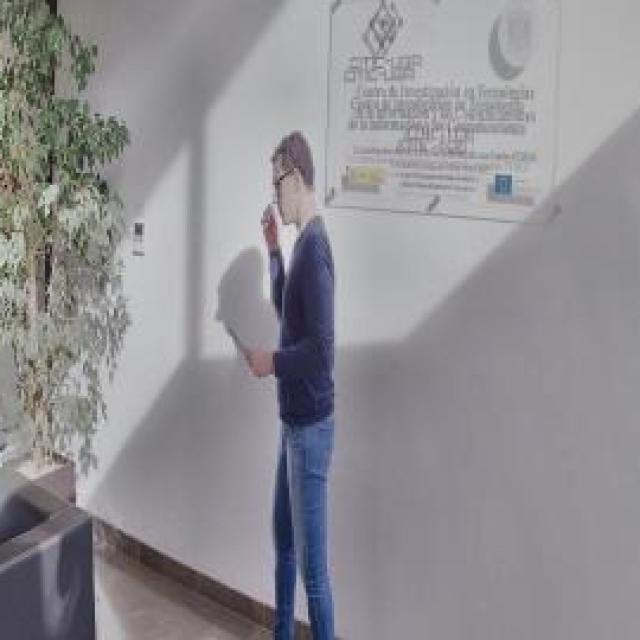knife: (225, 320, 261, 377)
